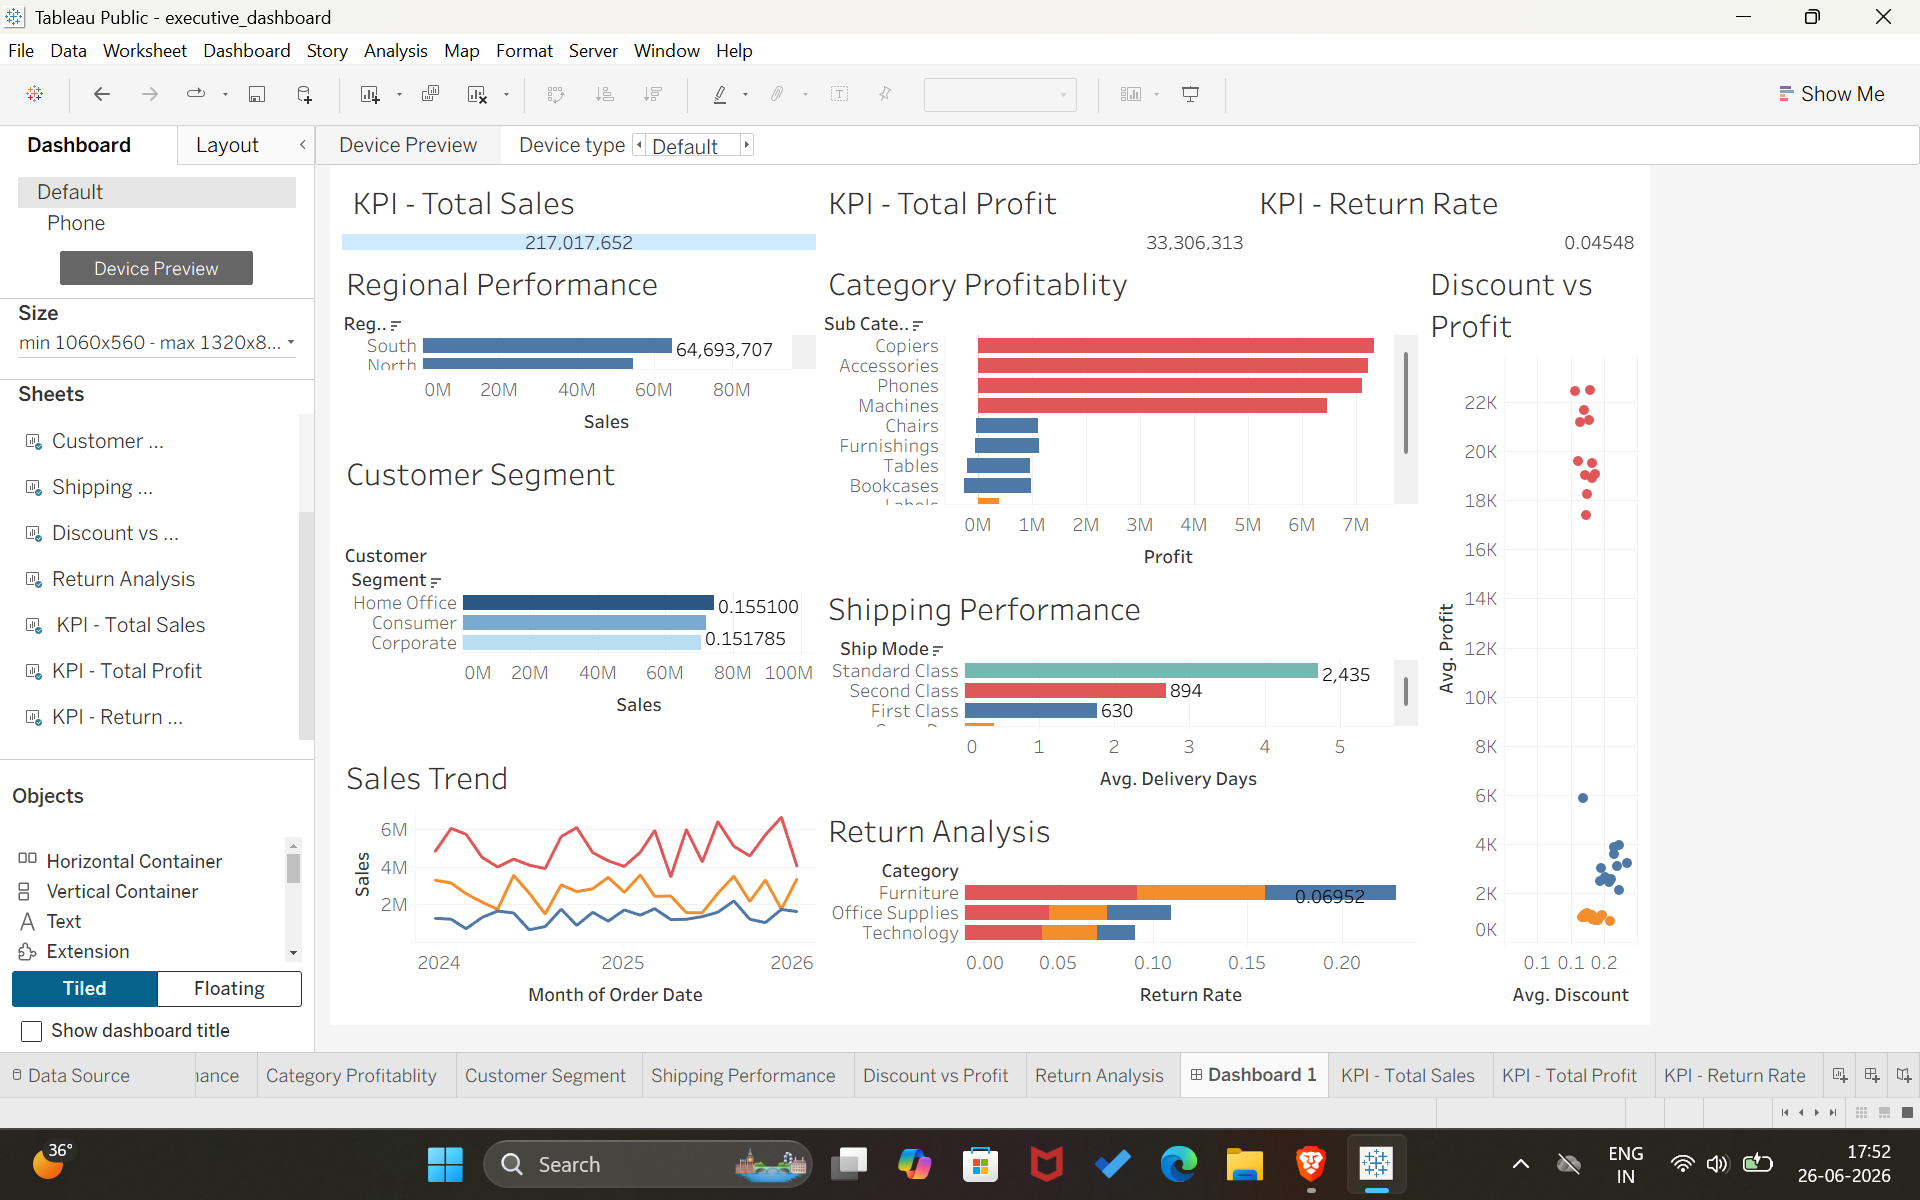

What the dashboard file says about the page in this screenshot:
{"tool":"tableau","page":{"name":"Dashboard 1","canvas":[1000,1000],"units":"permille","ordinal":0},"visuals":[{"type":"worksheet","title":" KPI - Total Sales","mark":"Automatic","box":[6.1,9.3,365.2,94.2]},{"type":"worksheet","title":"KPI - Total Profit","mark":"Automatic","box":[371.2,9.3,326.5,94.2]},{"type":"worksheet","title":"KPI - Return Rate","mark":"Automatic","box":[697.7,9.3,296.2,94.2]},{"type":"worksheet","title":"Regional Performance","mark":"Bar","rows":["region"],"cols":["sales"],"box":[6.1,103.5,365.2,220.8]},{"type":"worksheet","title":"Category Profitablity","mark":"Automatic","rows":["sub_category"],"cols":["profit"],"box":[371.2,103.5,456.1,377.9]},{"type":"worksheet","title":"Discount vs Profit","mark":"Circle","rows":["profit"],"cols":["discount"],"box":[827.3,103.5,166.7,887.2]},{"type":"worksheet","title":"Customer Segment","mark":"Automatic","rows":["customer_segment"],"cols":["sales"],"box":[6.1,324.3,365.2,354.2]},{"type":"worksheet","title":"Shipping Performance","mark":"Automatic","rows":["ship_mode"],"cols":["delivery_days"],"box":[371.2,481.4,456.1,258.1]},{"type":"worksheet","title":"Sales Trend","mark":"Line","rows":["sales"],"cols":["order_date"],"box":[6.1,678.4,365.2,312.3]},{"type":"worksheet","title":"Return Analysis","mark":"Automatic","rows":["category"],"cols":["Calculation_0379623068442628"],"box":[371.2,739.5,456.1,251.2]}]}

Visuals, with their boxes on the dashboard's canvas, which has no fixed pixel size, in thousandths of its width and height (x1, y1, x2, y2). These are canvas units, not pixel positions in the 1920x1200 screenshot, which may show the page scaled, cropped or inside an application window:
" KPI - Total Sales" worksheet: <bbox>6, 9, 371, 104</bbox>
"KPI - Total Profit" worksheet: <bbox>371, 9, 698, 104</bbox>
"KPI - Return Rate" worksheet: <bbox>698, 9, 994, 104</bbox>
"Regional Performance" worksheet (Bar marks): <bbox>6, 104, 371, 324</bbox>
"Category Profitablity" worksheet: <bbox>371, 104, 827, 481</bbox>
"Discount vs Profit" worksheet (Circle marks): <bbox>827, 104, 994, 991</bbox>
"Customer Segment" worksheet: <bbox>6, 324, 371, 678</bbox>
"Shipping Performance" worksheet: <bbox>371, 481, 827, 740</bbox>
"Sales Trend" worksheet (Line marks): <bbox>6, 678, 371, 991</bbox>
"Return Analysis" worksheet: <bbox>371, 740, 827, 991</bbox>
